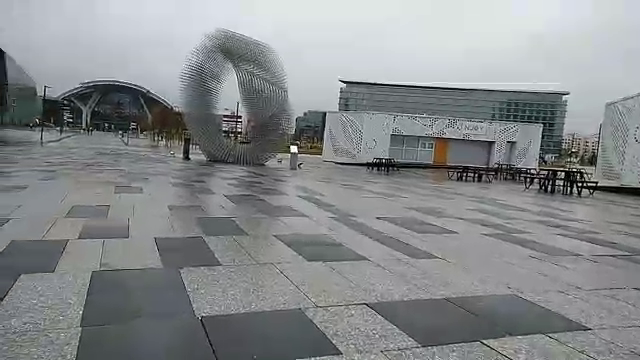mega: (53, 69, 183, 147)
